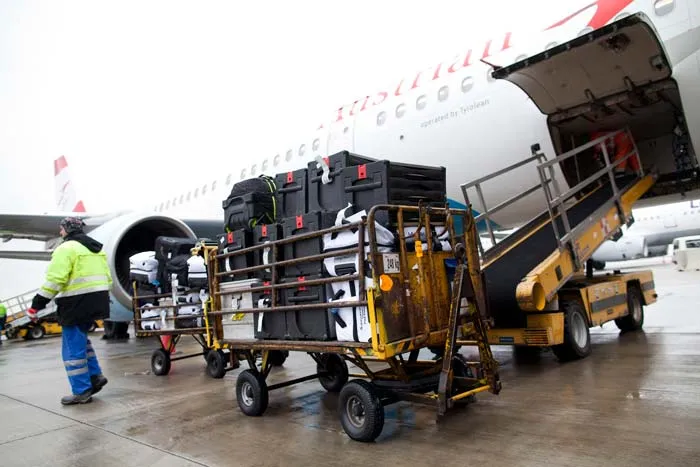baggagetruck: (454, 108, 665, 367)
